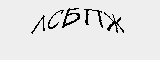Б: (61, 5, 81, 29)
Ж: (105, 13, 125, 33)
Л: (31, 14, 46, 33)
П: (85, 9, 101, 27)
С: (47, 7, 62, 30)
